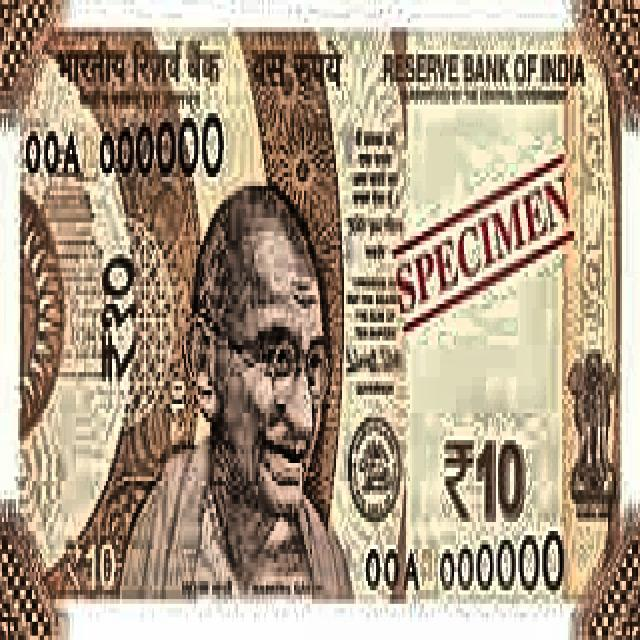-10-: (4, 4, 640, 602)
